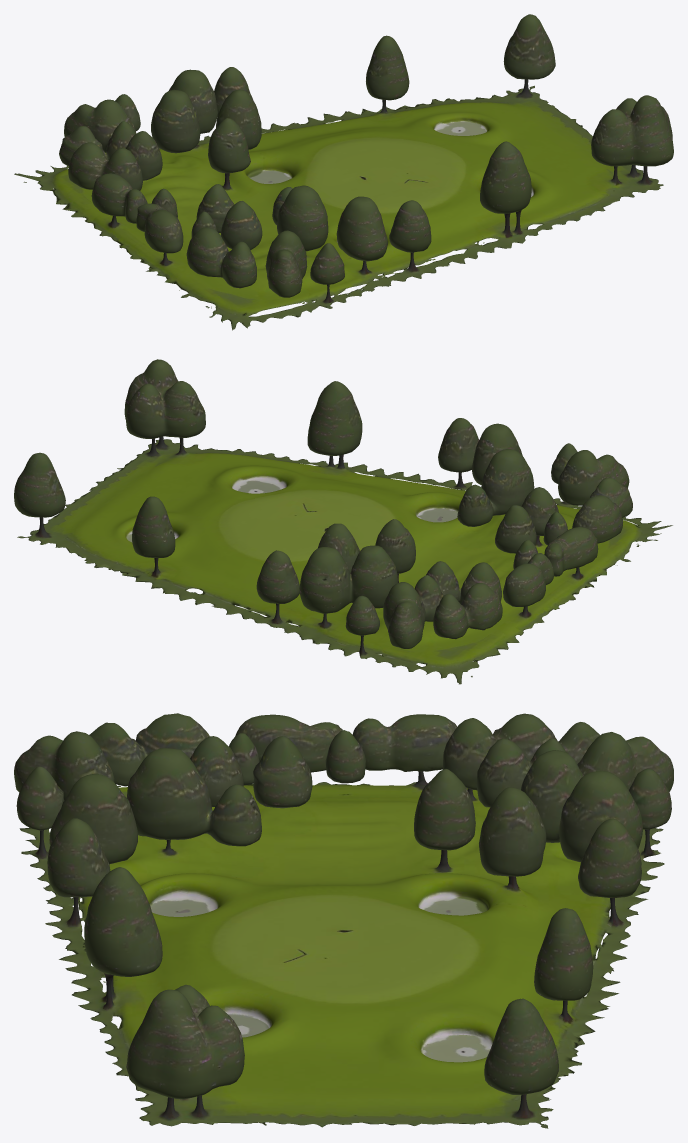
The model's file is golf_course_environment_model_fbx.fbx.
3 views of the same model, one above another, from view 1: azimuth 30°, elevation 25°; view 2: azimuth 150°, elevation 25°; view 3: azimuth 270°, elevation 25° (orthographic). The views are drawn at different scales.
Visible parts, largest first — view 1: mesh_6f43; view 2: mesh_6f43; view 3: mesh_6f43.
Part boxes in pixels (<box>): mesh_6f43: <box>14,14,673,330</box>; mesh_6f43: <box>14,359,672,684</box>; mesh_6f43: <box>14,713,673,1128</box>.
Size of the model in its own units: 6.73 by 1.2 by 5.24.
1 material, 1 textured.
